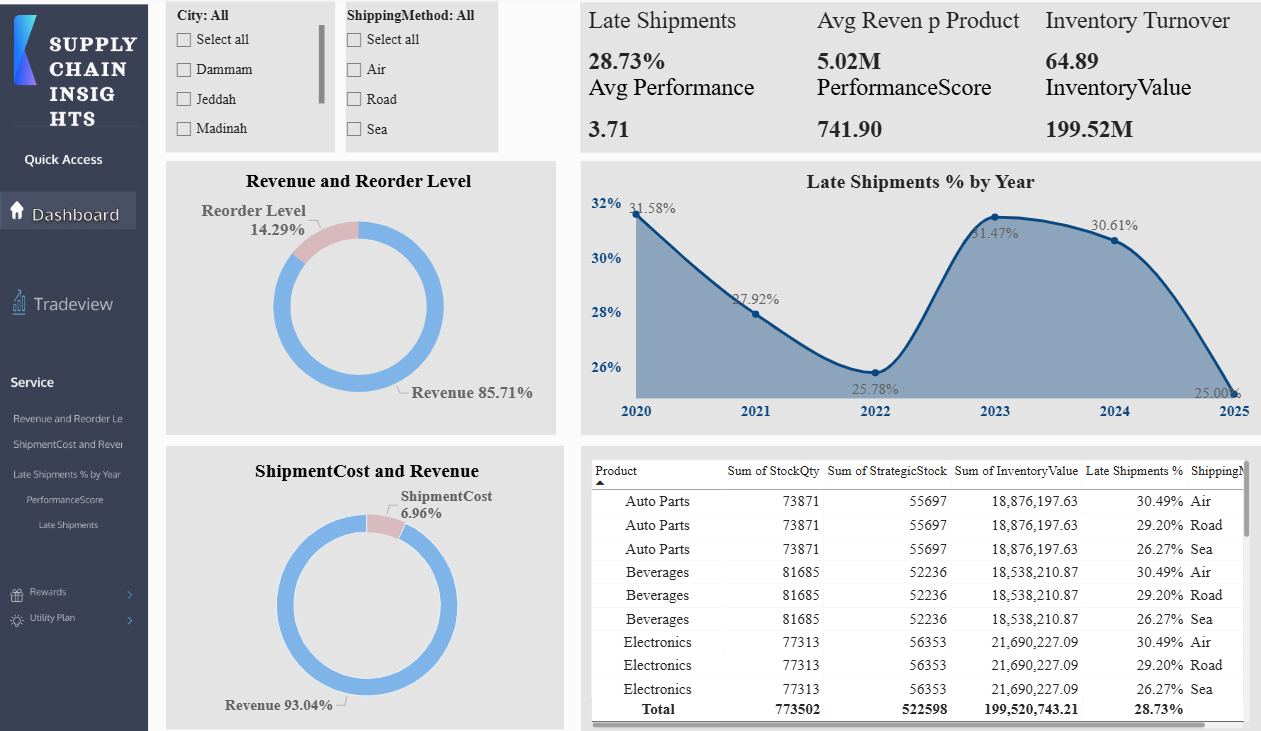

Layout of this report page (visuals, bound fields, positions):
{"tool":"powerbi","page":{"name":"Page 2","canvas":[1920,1080],"ordinal":1},"visuals":[{"type":"lineChart","fields":{"Category":["Calendar.Year"],"Y":["ALL_Measure.Late Shipments %"]},"box":[888,240,960,384],"z":0},{"type":"tableEx","fields":{"Values":["Inventory(1).Product","Sum(Inventory(1).StockQty)","Sum(Inventory(1).StrategicStock)","Sum(vw_InventoryValue.InventoryValue)","ALL_Measure.Late Shipments %","Shipments.ShippingMethod"]},"box":[888,648,960,408],"z":1},{"type":"cardVisual","fields":{"Data":["ALL_Measure.Late Shipments %","ALL_Measure.Avg Revenue per Product","ALL_Measure.Inventory Turnover"]},"box":[888,24,960,96],"z":2},{"type":"cardVisual","fields":{"Data":["ALL_Measure.Avg Performance","Sum(Employees(2).PerformanceScore)","Sum(vw_InventoryValue.InventoryValue)"]},"box":[888,120,960,96],"z":3},{"type":"donutChart","fields":{"Y":["Sum(Shipments.ShipmentCost)","ALL_Measure.Revenue"]},"box":[312,648,552,408],"z":4},{"type":"donutChart","fields":{"Y":["ALL_Measure.Revenue","ALL_Measure.Reorder Level"]},"box":[312,240,528,384],"z":5},{"type":"slicer","fields":{"Values":["Customers(1).City"]},"box":[312,24,216,192],"z":7},{"type":"slicer","fields":{"Values":["Shipments.ShippingMethod"]},"box":[552,24,216,192],"z":8}]}

Visuals, with their boxes on the page's 1920x1080 design canvas (x1, y1, x2, y2). These are canvas units, not pixel positions in the 1261x731 screenshot, which may show the page scaled, cropped or inside an application window:
lineChart - Calendar.Year x ALL_Measure.Late Shipments %: region(888, 240, 1848, 624)
tableEx - Inventory(1).Product x Sum(Inventory(1).StockQty): region(888, 648, 1848, 1056)
cardVisual - ALL_Measure.Late Shipments % x ALL_Measure.Avg Revenue per Product: region(888, 24, 1848, 120)
cardVisual - ALL_Measure.Avg Performance x Sum(Employees(2).PerformanceScore): region(888, 120, 1848, 216)
donutChart - Sum(Shipments.ShipmentCost) x ALL_Measure.Revenue: region(312, 648, 864, 1056)
donutChart - ALL_Measure.Revenue x ALL_Measure.Reorder Level: region(312, 240, 840, 624)
slicer - Customers(1).City: region(312, 24, 528, 216)
slicer - Shipments.ShippingMethod: region(552, 24, 768, 216)
